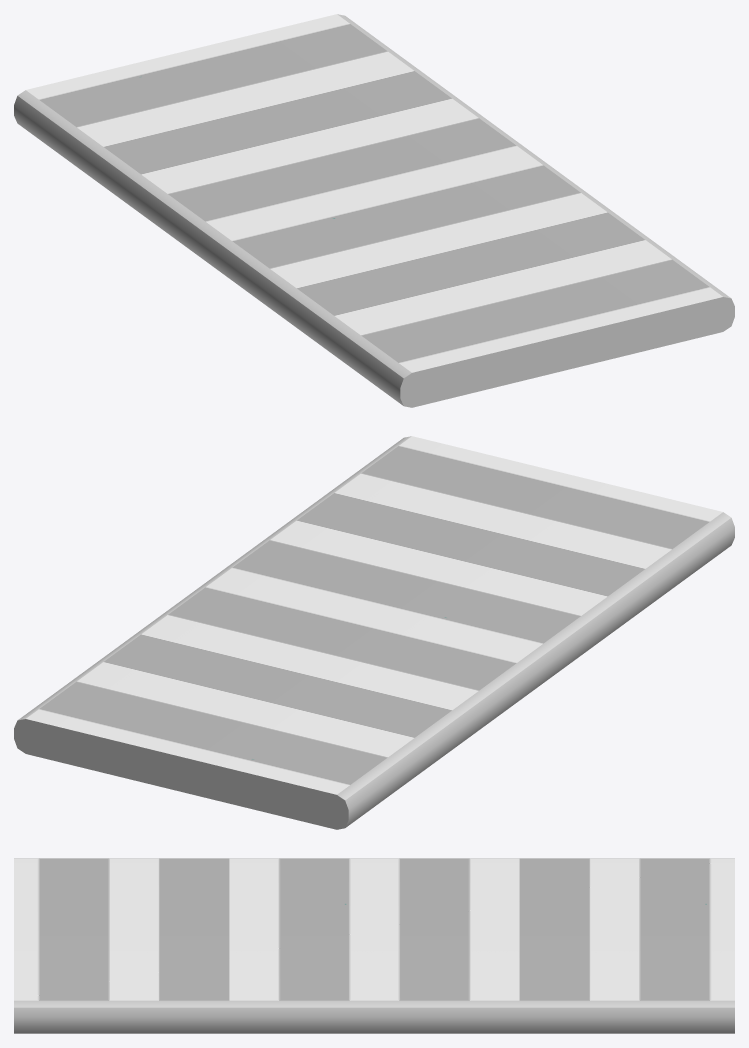
File: floor_straight.fbx
The picture shows the model from 3 angles, top to bottom: view 1: azimuth 30°, elevation 25°; view 2: azimuth 150°, elevation 25°; view 3: azimuth 270°, elevation 25°; orthographic projection. The views are drawn at different scales.
Visible parts, largest first — view 1: floor_straight; view 2: floor_straight; view 3: floor_straight.
Part boxes in pixels (bbox=[...]): floor_straight: bbox=[14, 14, 734, 407]; floor_straight: bbox=[14, 436, 734, 829]; floor_straight: bbox=[14, 858, 734, 1033].
Bounding box in the file's own units: 500 × 50 × 1000.
3 materials, 1 textured.
